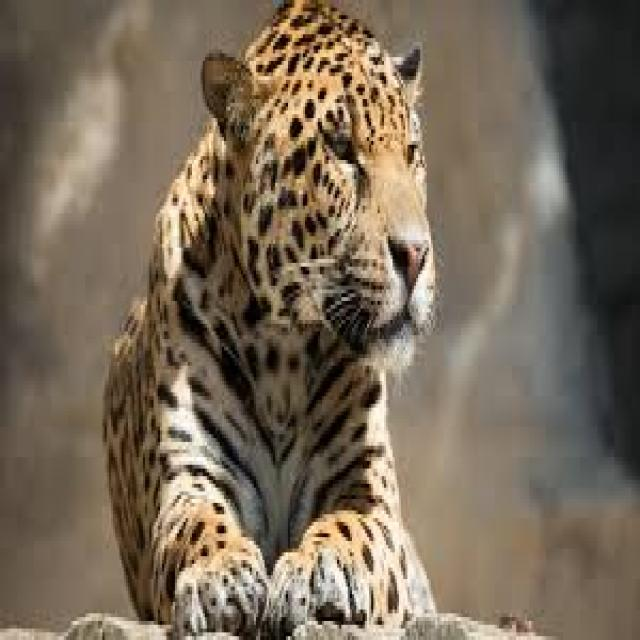Jaguar: (102, 4, 448, 628)
